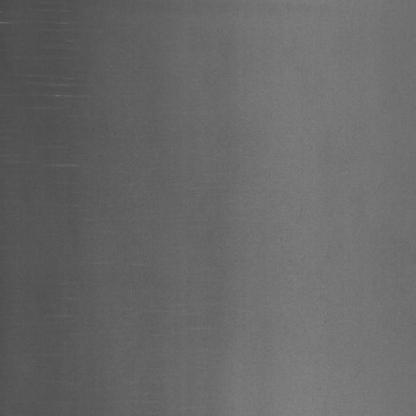waist_folding: (0, 17, 178, 235)
